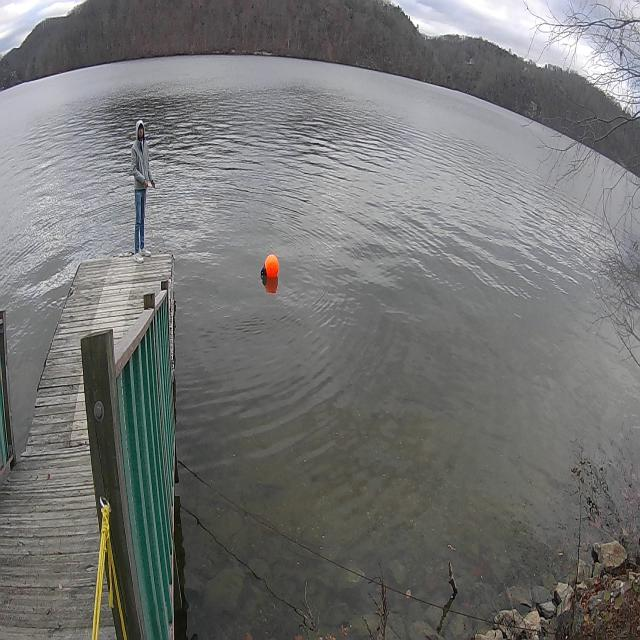Buoy: (263, 250, 280, 282)
